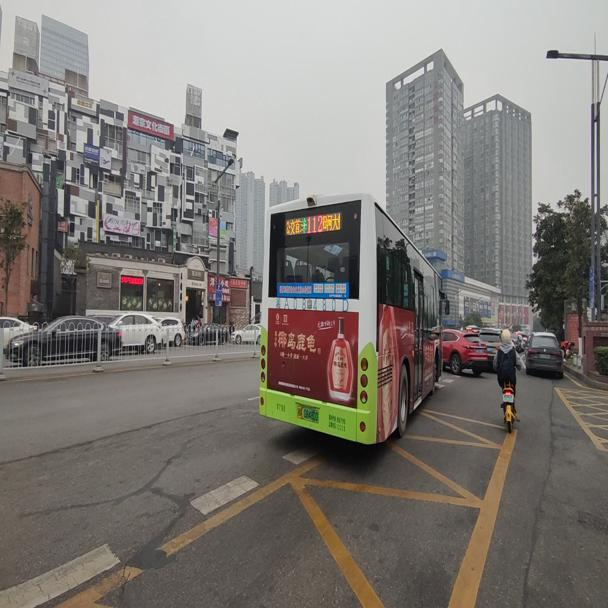bus: (256, 191, 452, 445)
screen: (306, 216, 324, 234)
